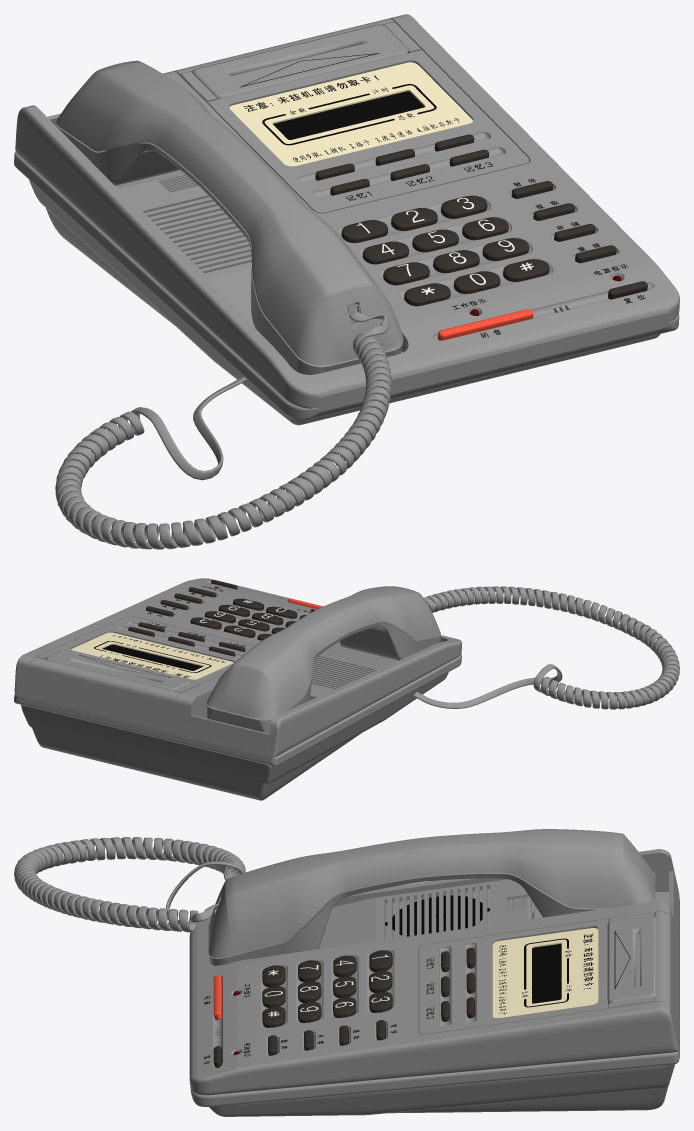
Rendered from table_phone.fbx.
3 views of the same model, one above another, from view 1: azimuth 30°, elevation 25°; view 2: azimuth 150°, elevation 25°; view 3: azimuth 270°, elevation 25° (orthographic). The views are drawn at different scales.
Parts seen in each view (by area): view 1: body, phone-ba, table_phone, body02, body2, NEWCORD02, NEWCORD, body4, CORD BASE, NIU04, NIU10, body3 (+12 smaller); view 2: body, phone-ba, body3, body4, table_phone, body2, NEWCORD, NEWCORD02, body02, body01, CORD BASE, NIU04; view 3: body, phone-ba, table_phone, body4, body02, body2, NEWCORD02, NEWCORD, body3, body04, NIU04, body01 (+12 smaller).
Boxes of the visible parts, x1=… form: body: x1=15, y1=14, x2=679, y2=408; phone-ba: x1=56, y1=60, x2=403, y2=374; table_phone: x1=181, y1=22, x2=645, y2=338; body02: x1=115, y1=170, x2=402, y2=353; body2: x1=14, y1=152, x2=679, y2=420; NEWCORD02: x1=55, y1=407, x2=227, y2=549; NEWCORD: x1=220, y1=332, x2=391, y2=536; body4: x1=29, y1=180, x2=660, y2=425; CORD BASE: x1=136, y1=376, x2=247, y2=480; NIU04: x1=330, y1=149, x2=489, y2=195; NIU10: x1=437, y1=309, x2=533, y2=340; body3: x1=46, y1=208, x2=173, y2=324; body: x1=14, y1=578, x2=462, y2=757; phone-ba: x1=207, y1=586, x2=440, y2=733; body3: x1=30, y1=721, x2=360, y2=800; body4: x1=21, y1=672, x2=448, y2=784; table_phone: x1=37, y1=586, x2=314, y2=692; body2: x1=14, y1=654, x2=461, y2=766; NEWCORD: x1=424, y1=586, x2=651, y2=640; NEWCORD02: x1=533, y1=625, x2=679, y2=709; body02: x1=309, y1=642, x2=398, y2=700; body01: x1=186, y1=715, x2=271, y2=753; CORD BASE: x1=413, y1=664, x2=562, y2=708; NIU04: x1=138, y1=622, x2=245, y2=651; body: x1=189, y1=849, x2=679, y2=1095; phone-ba: x1=208, y1=829, x2=655, y2=965; table_phone: x1=204, y1=912, x2=655, y2=1064; body4: x1=209, y1=1064, x2=674, y2=1116; body02: x1=211, y1=879, x2=668, y2=964; body2: x1=190, y1=897, x2=679, y2=1106; NEWCORD02: x1=23, y1=837, x2=245, y2=879; NEWCORD: x1=14, y1=855, x2=196, y2=932; body3: x1=389, y1=1085, x2=668, y2=1113; body04: x1=392, y1=895, x2=482, y2=936; NIU04: x1=441, y1=951, x2=449, y2=1021; body01: x1=669, y1=870, x2=678, y2=939.
Bounding box in the file's own units: 29.11 × 7.86 × 30.24.
